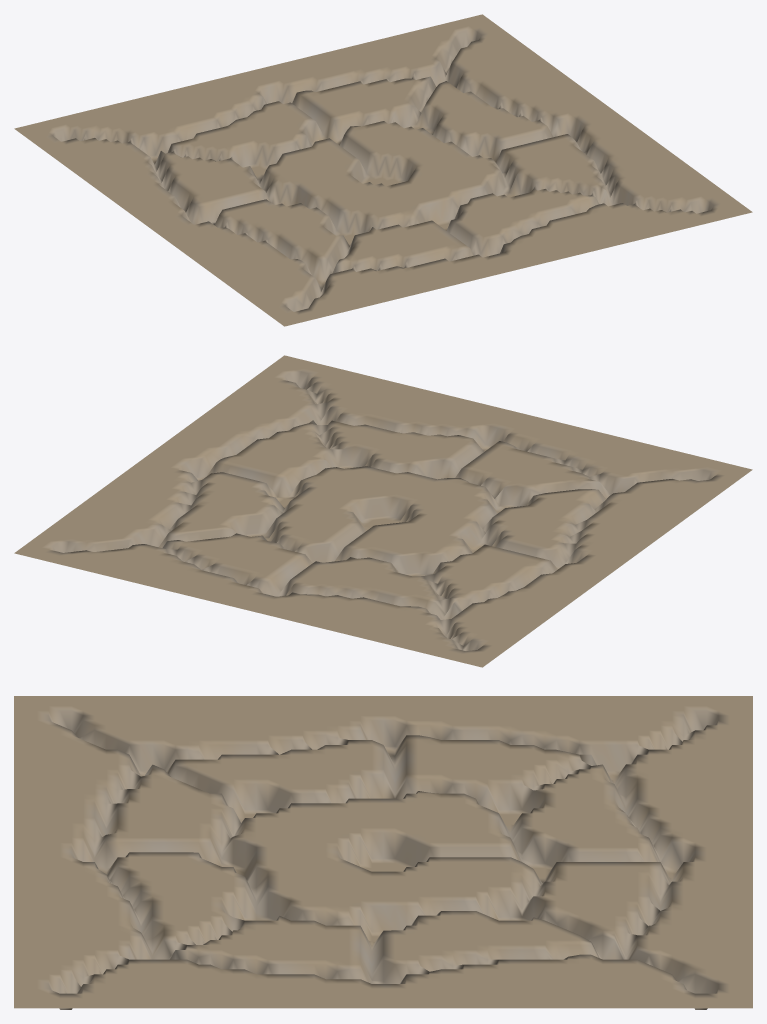
The model's file is horizon.glb.
The picture shows the model from 3 angles, top to bottom: view 1: azimuth 30°, elevation 25°; view 2: azimuth 150°, elevation 25°; view 3: azimuth 270°, elevation 25°; orthographic projection. The views are drawn at different scales.
Visible parts, largest first — view 1: horizon_terrain; view 2: horizon_terrain; view 3: horizon_terrain.
Boxes of the visible parts, x1,y1,x2,y2 form: horizon_terrain: [14, 14, 752, 326]; horizon_terrain: [14, 355, 752, 667]; horizon_terrain: [14, 696, 752, 1009].
Size of the model in its own units: 512 by 16 by 512.
